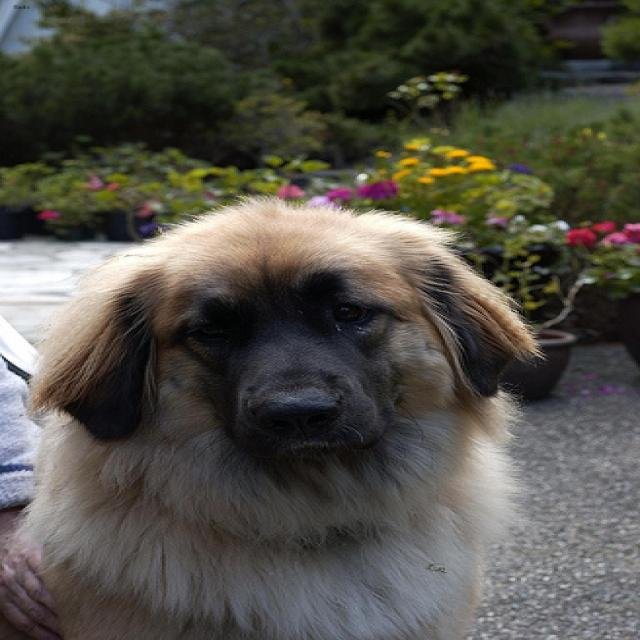dog-leonberger: (2, 184, 556, 637)
